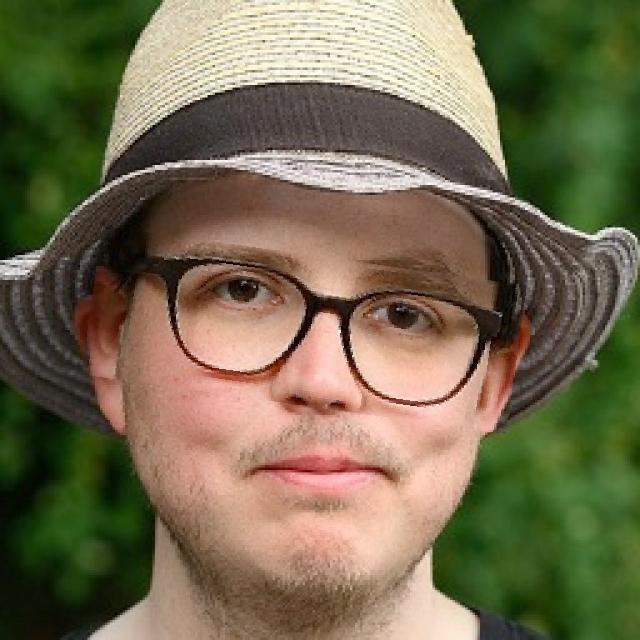glasses: (85, 241, 522, 419)
